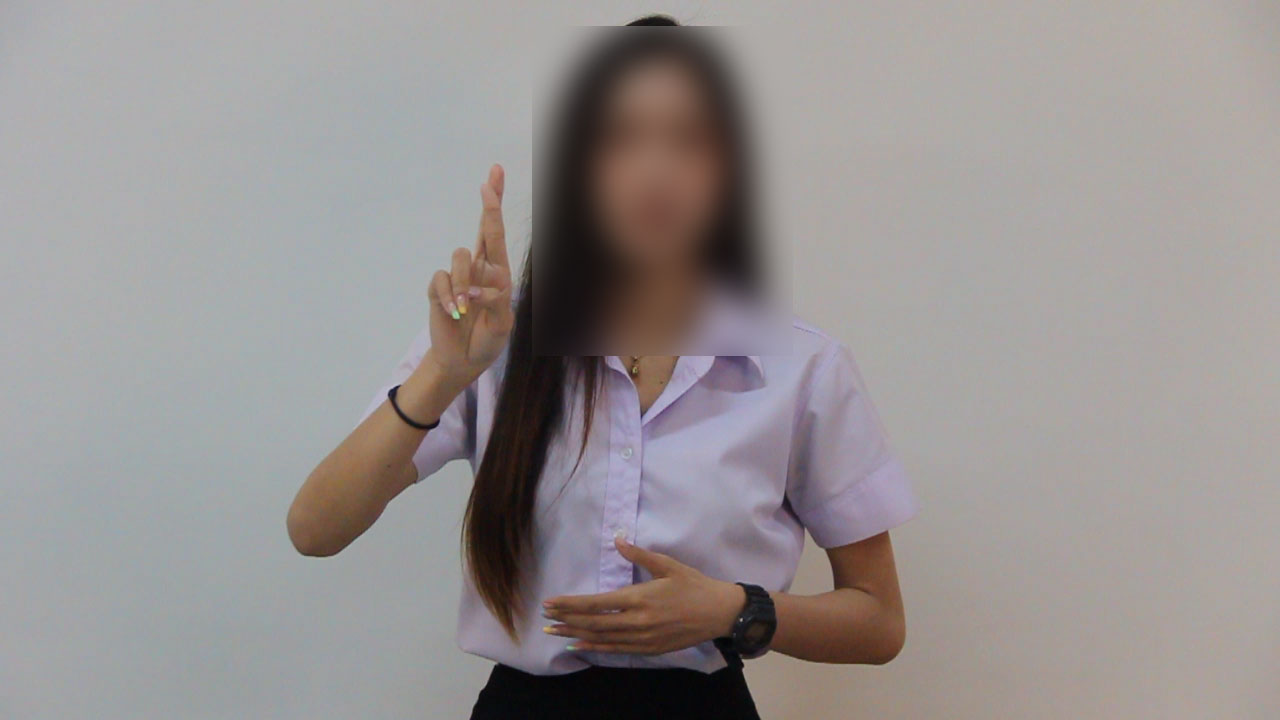rao: (378, 155, 521, 394)
